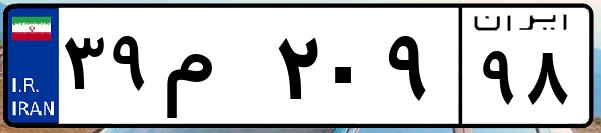0: (330, 28, 385, 110)
2: (270, 28, 330, 110)
3: (57, 26, 110, 100)
8: (525, 38, 570, 115)
9: (385, 28, 445, 110), (475, 38, 525, 113), (110, 28, 158, 98)
م: (158, 20, 270, 120)
